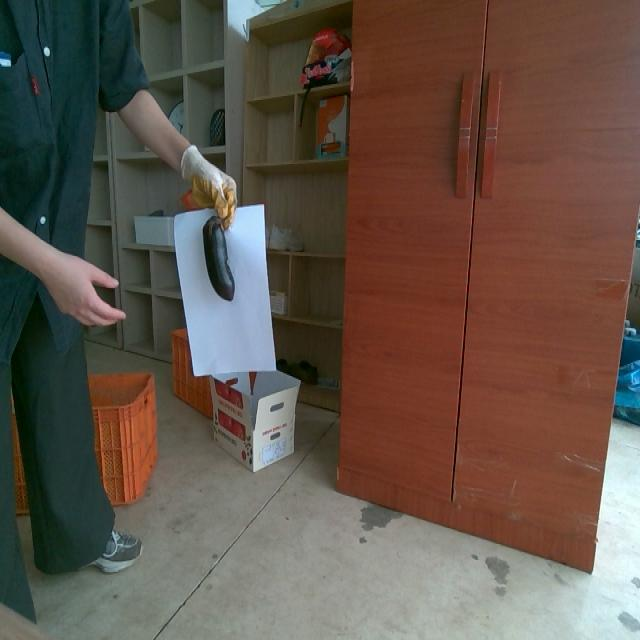Egg plant: (204, 216, 235, 300)
